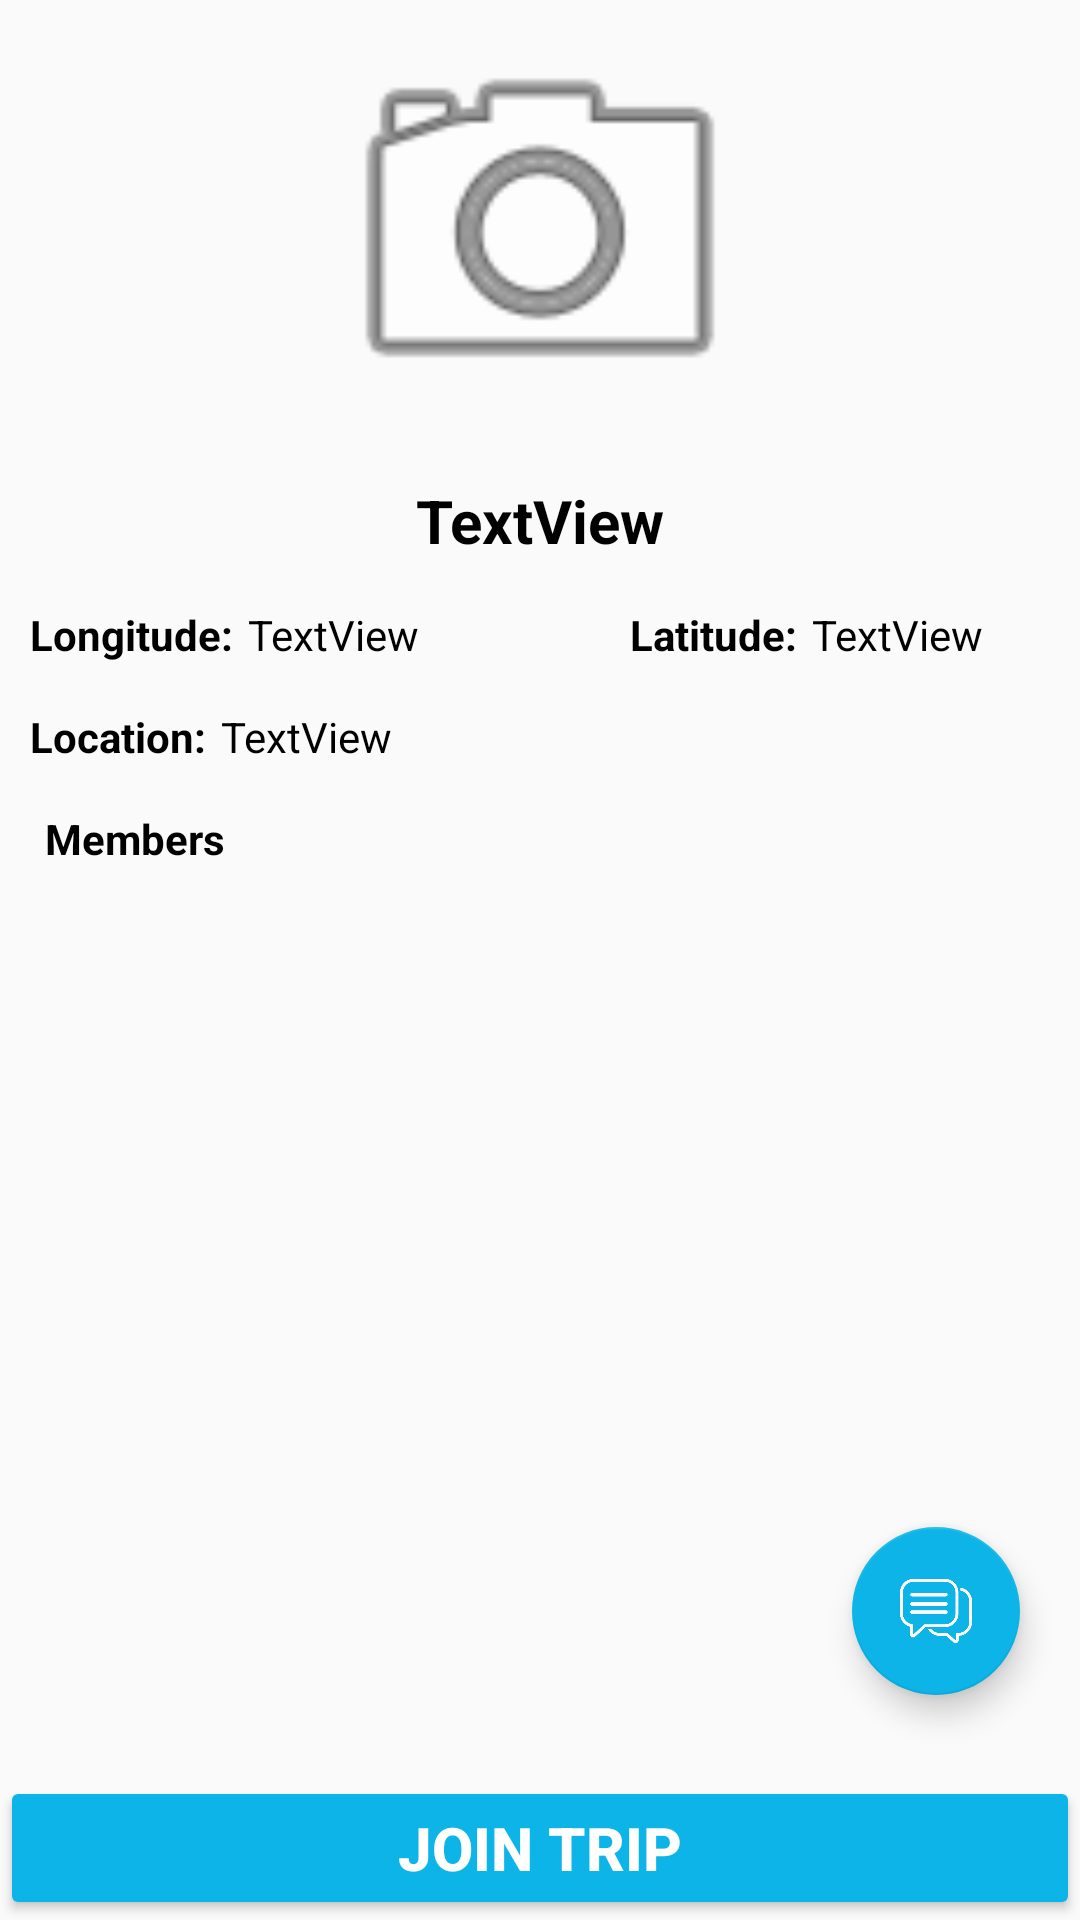

Icons on this 1080px×1920px Android screen, each with its box as (x1, y1, x2, y2):
camera: (366, 79, 714, 357)
chat: (852, 1527, 1020, 1695)
